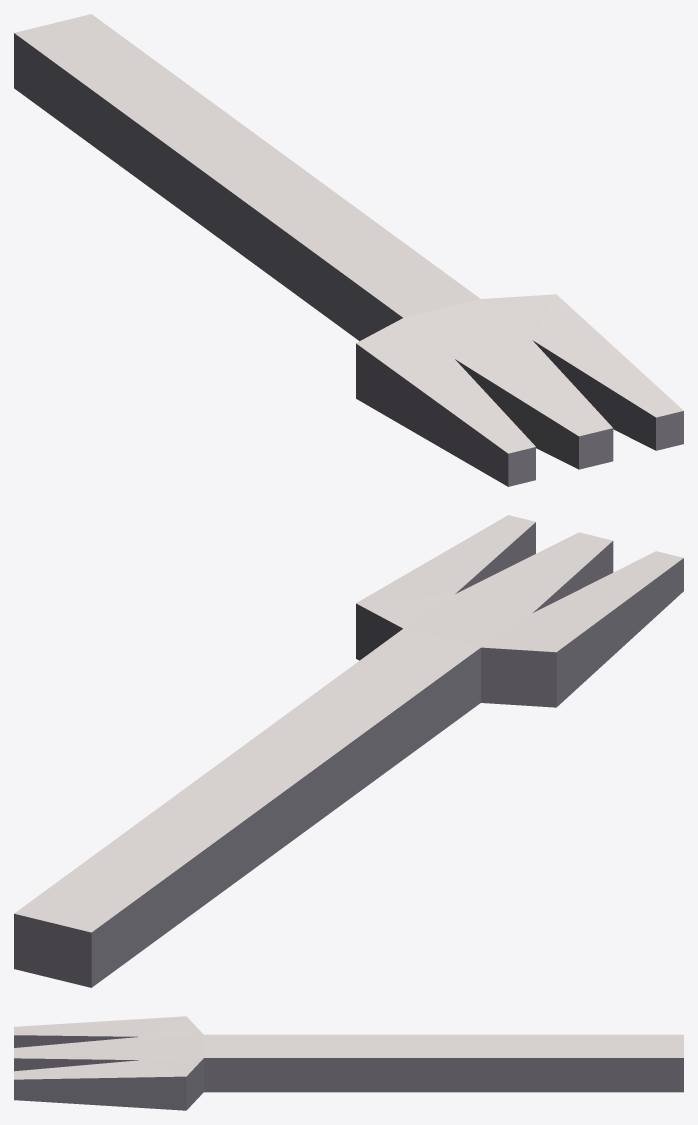
The model's file is TB_Prop_Fork.FBX.
3 renders of one model, top to bottom at view 1: azimuth 30°, elevation 25°; view 2: azimuth 150°, elevation 25°; view 3: azimuth 270°, elevation 25°, orthographic. The views are drawn at different scales.
Parts seen in each view (by area): view 1: TB_Prop_Fork; view 2: TB_Prop_Fork; view 3: TB_Prop_Fork.
Boxes of the visible parts, <box> form: TB_Prop_Fork: <box>14,14,683,486</box>; TB_Prop_Fork: <box>14,515,683,987</box>; TB_Prop_Fork: <box>14,1016,683,1110</box>.
Bounding box in the file's own units: 0.0656 × 0.0173 × 0.3076.
